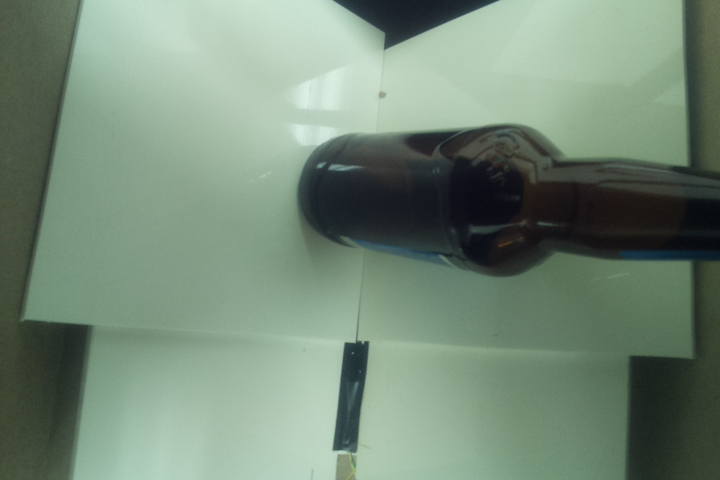makju: (295, 123, 720, 279)
